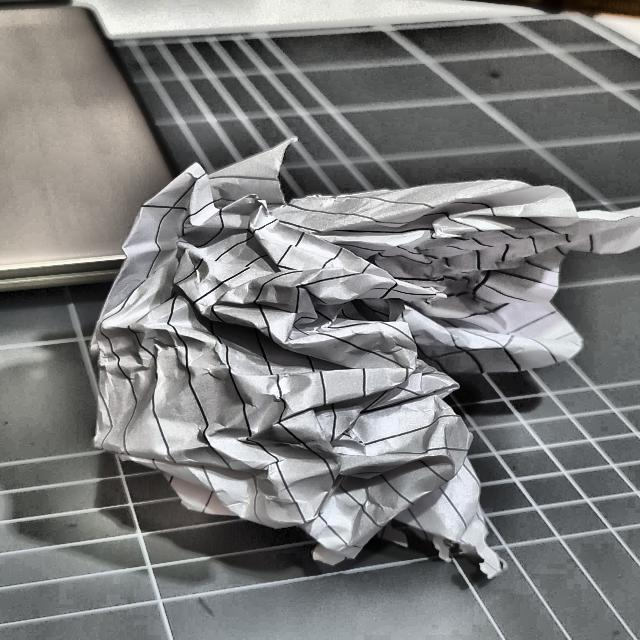paper: (78, 141, 640, 570)
